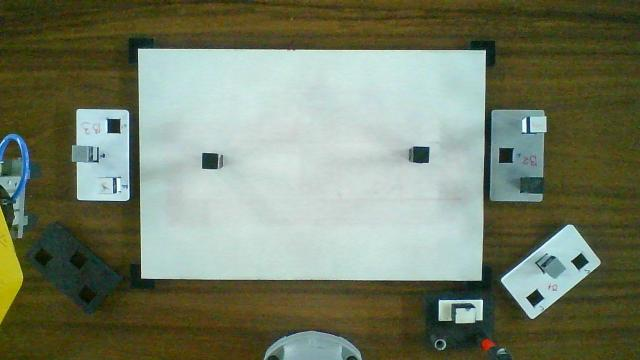peca_preta: (202, 154, 218, 169), (414, 147, 428, 163)
